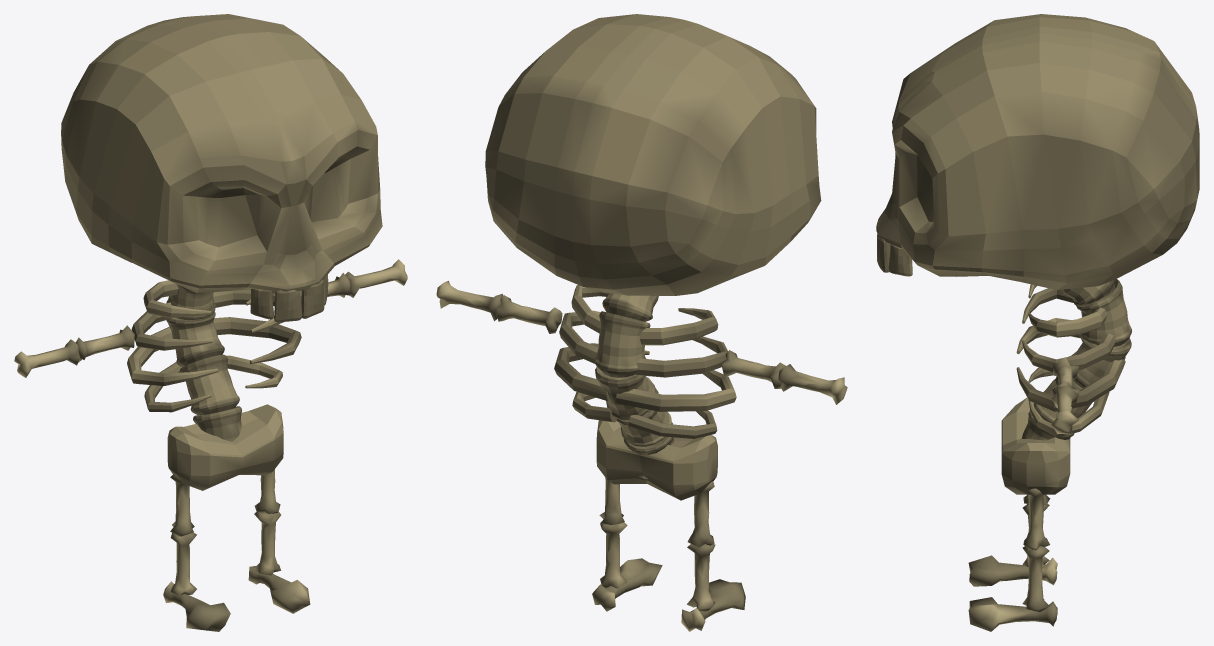
Rendered from Skelet (4).fbx.
3 views of the same model, side by side, from view 1: azimuth 30°, elevation 25°; view 2: azimuth 150°, elevation 25°; view 3: azimuth 270°, elevation 25° (orthographic). The views are drawn at different scales.
Visible parts, largest first — view 1: Retopo_Sphere; view 2: Retopo_Sphere; view 3: Retopo_Sphere.
Boxes of the visible parts, <box> form: Retopo_Sphere: <box>14,14,407,631</box>; Retopo_Sphere: <box>436,14,847,631</box>; Retopo_Sphere: <box>876,14,1199,631</box>.
Bounding box in the file's own units: 1.8 × 2.5 × 1.28.
